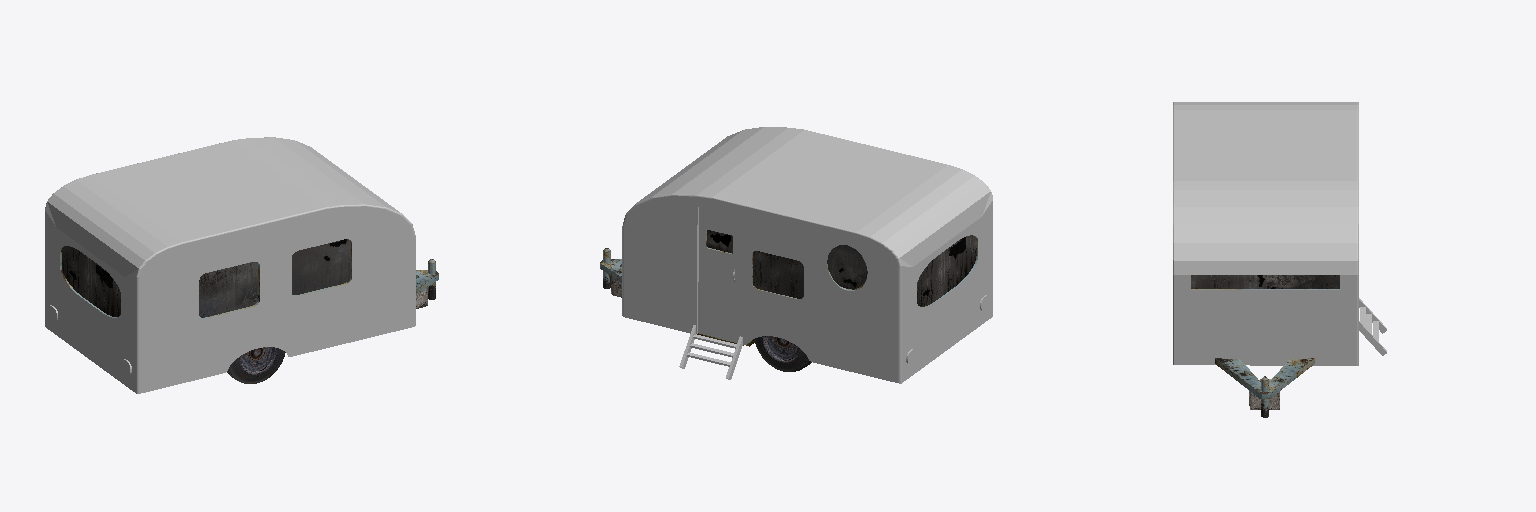
The picture shows the model from 3 angles: view 1: azimuth 30°, elevation 25°; view 2: azimuth 150°, elevation 25°; view 3: azimuth 270°, elevation 25°; orthographic projection.
Visible parts, largest first — view 1: top_and_stairs, trailer_sides, windows, tyres_and_support; view 2: top_and_stairs, trailer_sides, windows, tyres_and_support; view 3: top_and_stairs, windows, tyres_and_support, trailer_sides.
Boxes of the visible parts, box(x1,y1,x2,y2) form: top_and_stairs: box(45, 137, 401, 393); trailer_sides: box(137, 205, 415, 393); windows: box(60, 239, 351, 318); tyres_and_support: box(227, 259, 438, 383); top_and_stairs: box(636, 127, 992, 383); trailer_sides: box(622, 194, 900, 383); windows: box(706, 229, 977, 306); tyres_and_support: box(600, 248, 811, 371); top_and_stairs: box(1174, 102, 1386, 365); windows: box(1191, 275, 1339, 289); tyres_and_support: box(1215, 358, 1314, 417); trailer_sides: box(1173, 102, 1358, 365).
Bounding box in the file's own units: 41.06 × 18.83 × 21.98.
Materials: 5 (3 with a texture image).